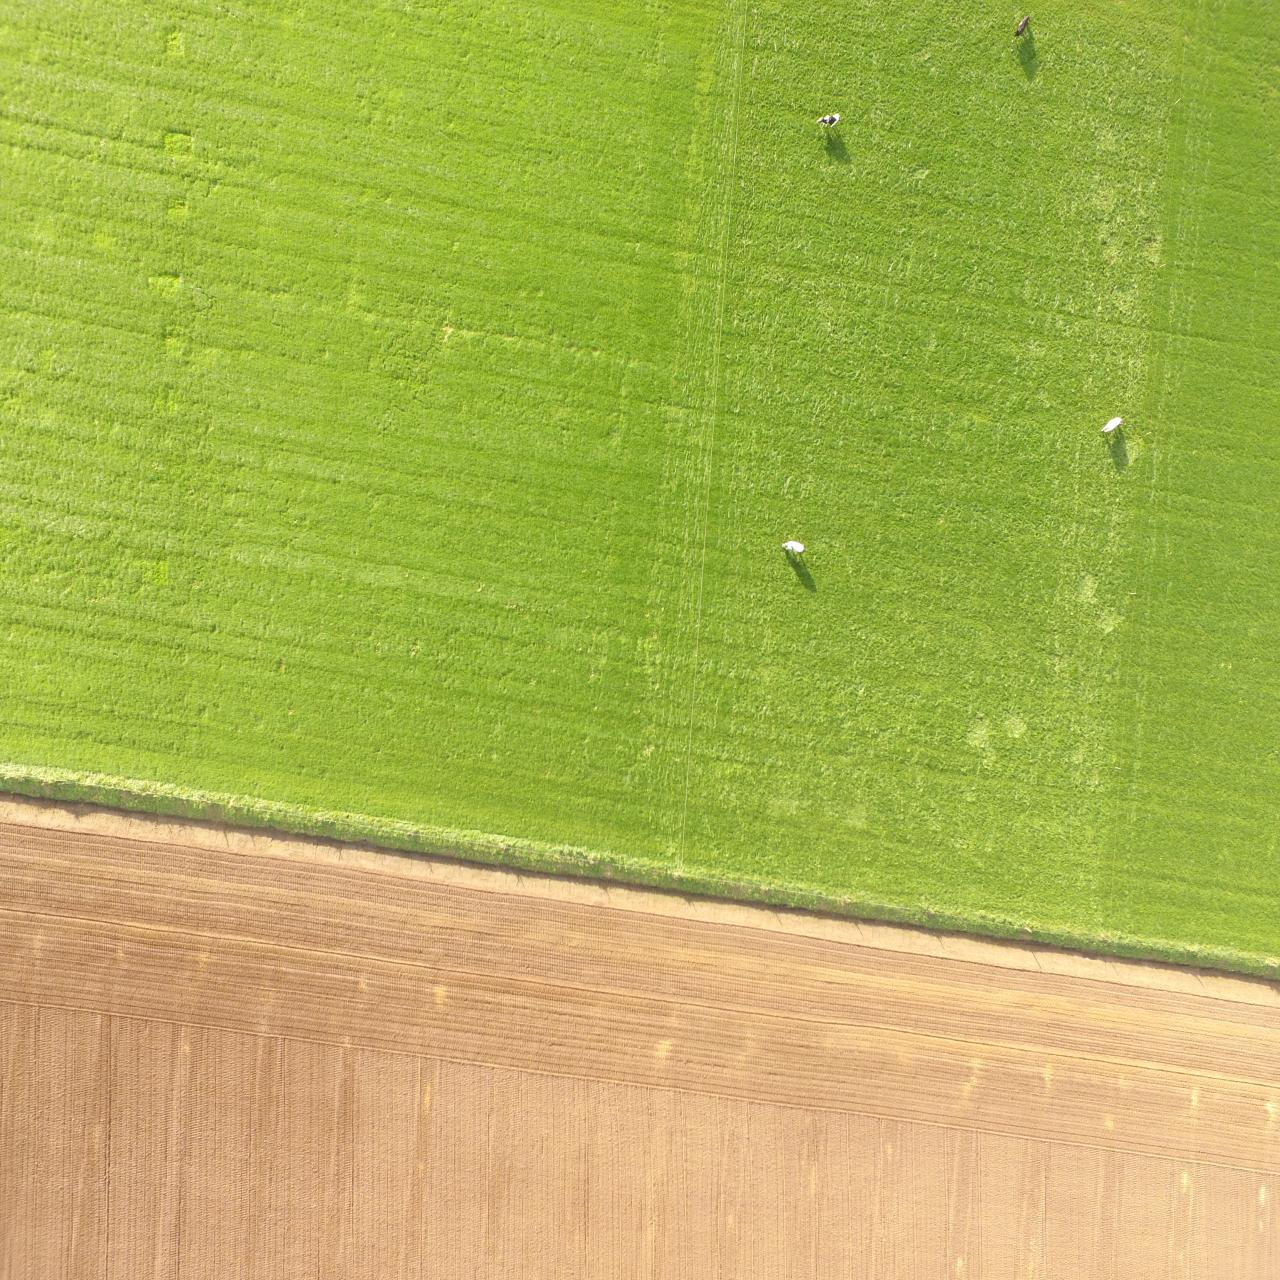cow: (816, 110, 840, 130), (1012, 14, 1029, 41), (1101, 415, 1124, 434), (781, 539, 805, 553)
